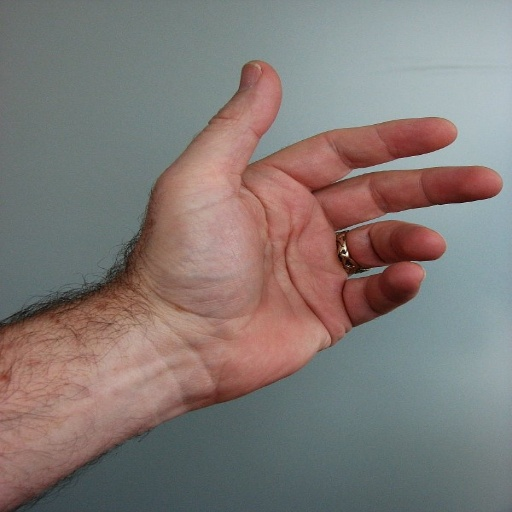hand: (128, 58, 502, 404)
